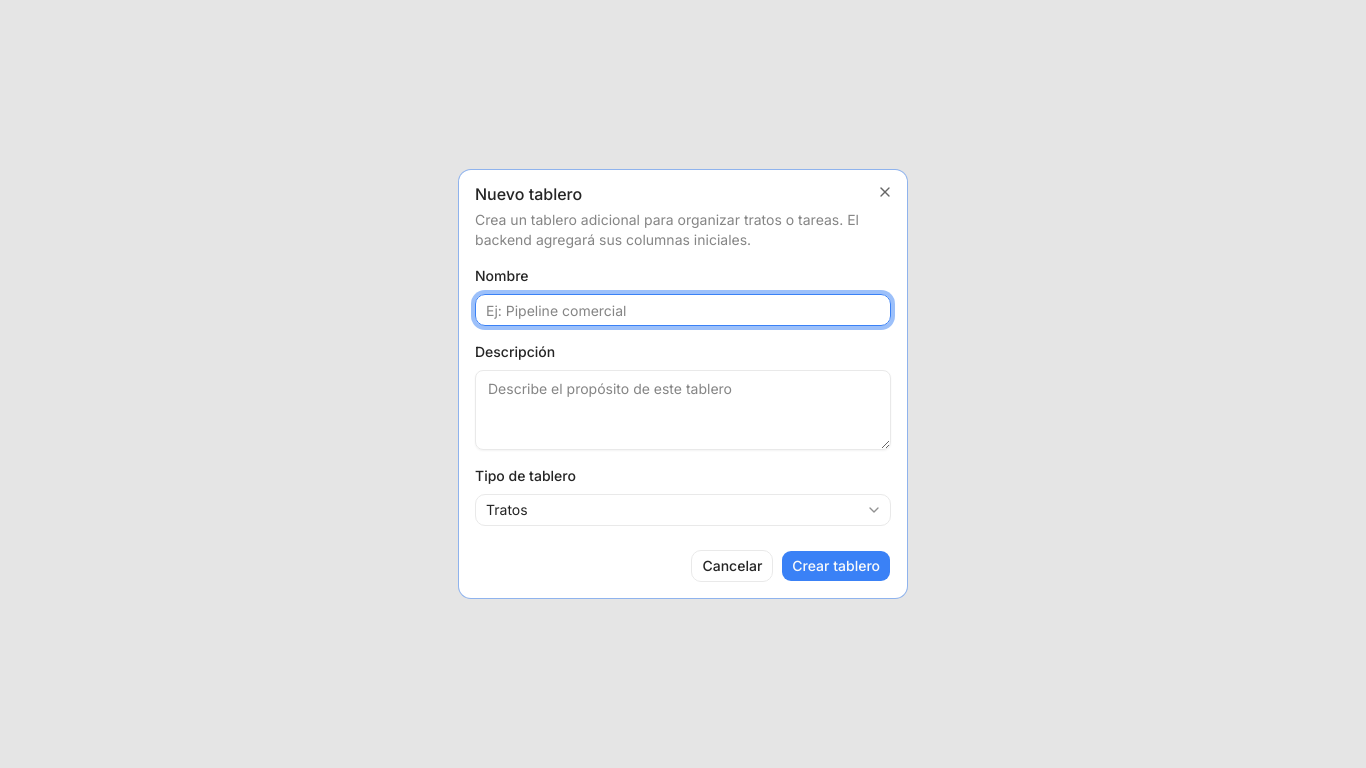
it: TableroFormDialog › surfaces a validation mutation error inside the dialog
Step 1. Type "Duplicado" into the field named "Nombre del tablero" → {"x": 683, "y": 310}, box [475,294,891,326]
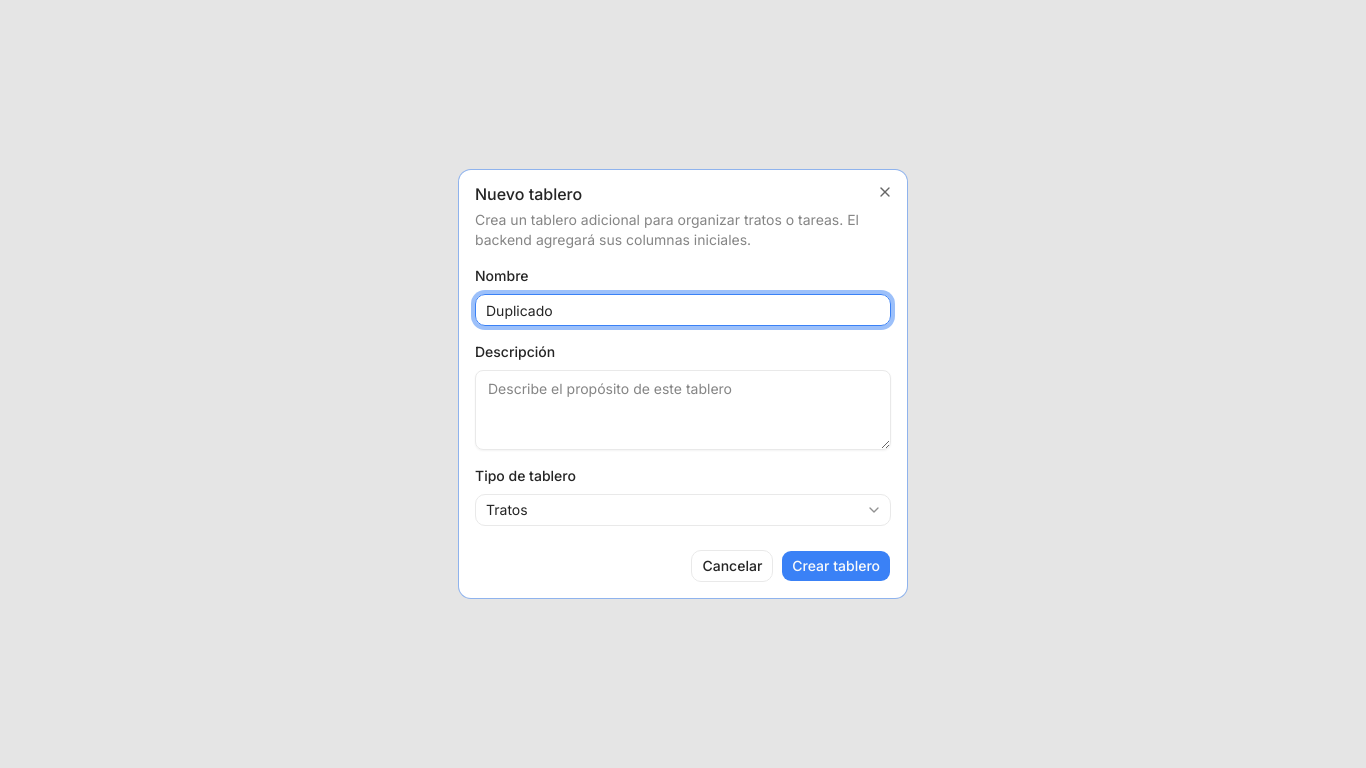
Step 2. Type "Descripción" into the text box named "Descripción del tablero" → {"x": 683, "y": 410}, box [475,370,891,450]
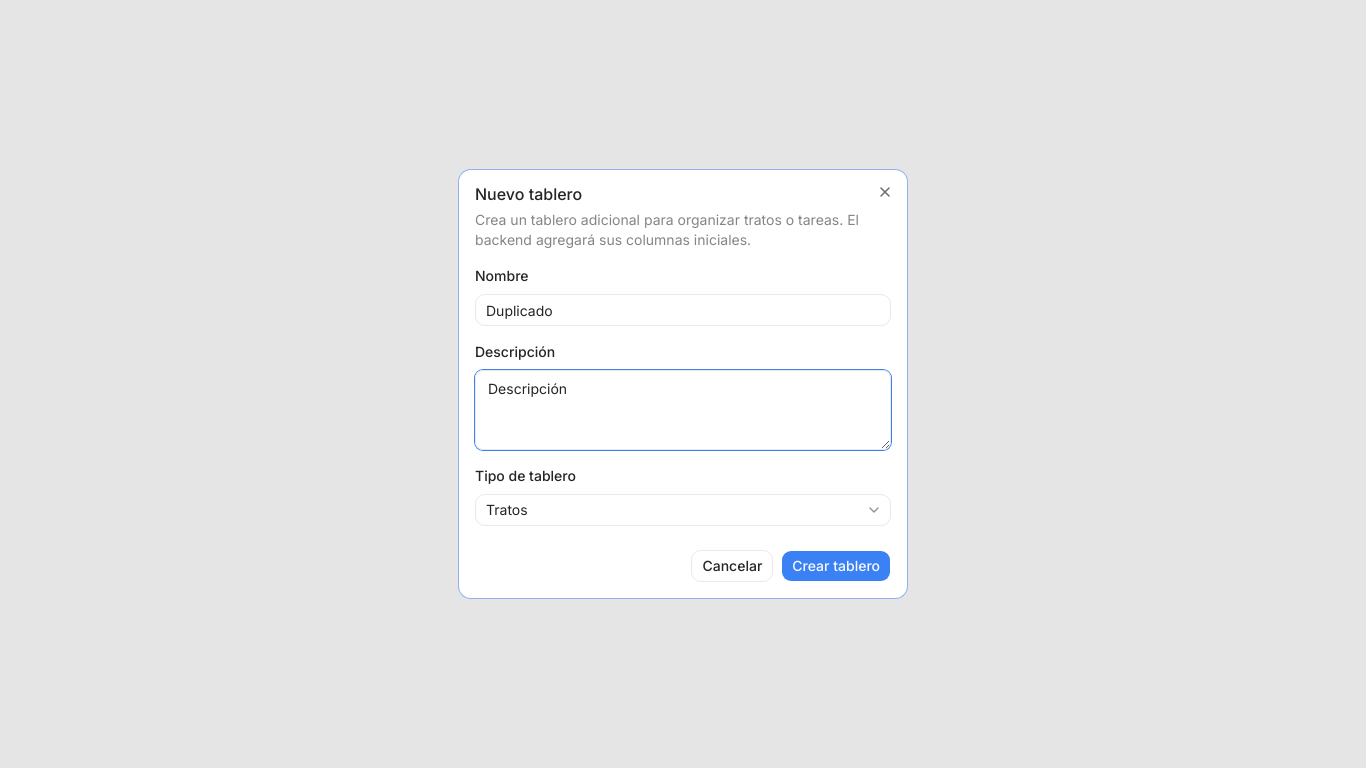
Step 3. Click the button "Crear tablero" → {"x": 836, "y": 566}, box [781,550,891,582]
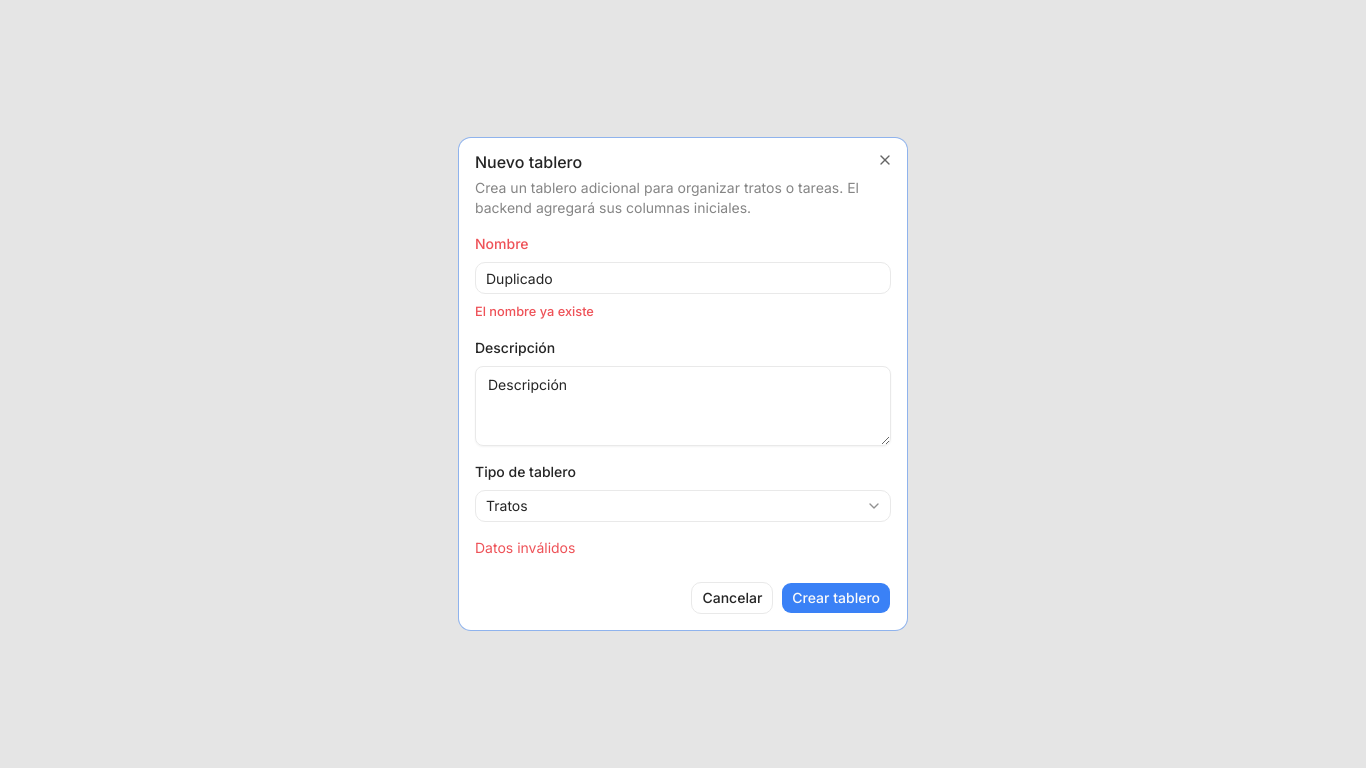
Result: the text "El nombre ya existe" is shown at [475,304,594,319]
Result: the message reads "Datos inválidos" at [475,539,575,556]
